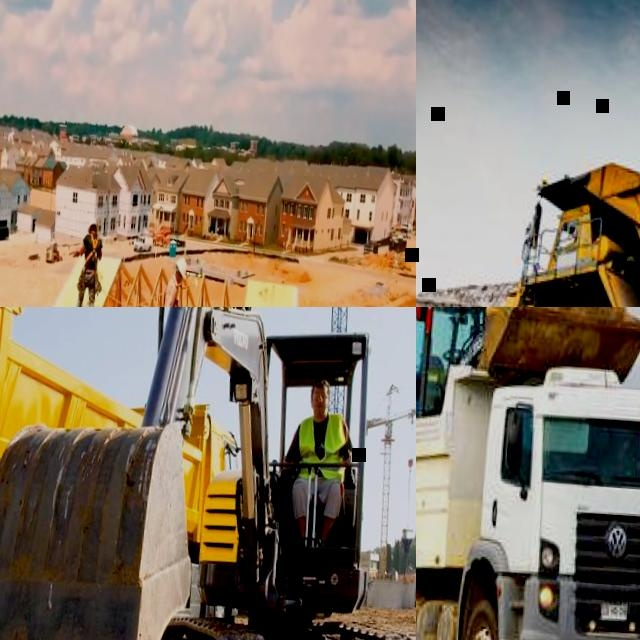Hardhat: (173, 257, 187, 278), (87, 218, 97, 232)
NO-Hardhat: (312, 376, 328, 388)
NO-Mask: (312, 402, 328, 416), (176, 276, 181, 283)
NO-Safety Vest: (295, 411, 348, 475), (82, 234, 99, 270)
Person: (275, 374, 357, 545), (72, 216, 103, 307), (155, 255, 187, 307)
machinery: (0, 307, 416, 640), (0, 307, 253, 640), (416, 337, 640, 640), (476, 47, 640, 307), (416, 307, 640, 452), (152, 226, 171, 247)
vehicle: (133, 233, 154, 253), (0, 224, 9, 241), (401, 220, 411, 231)
